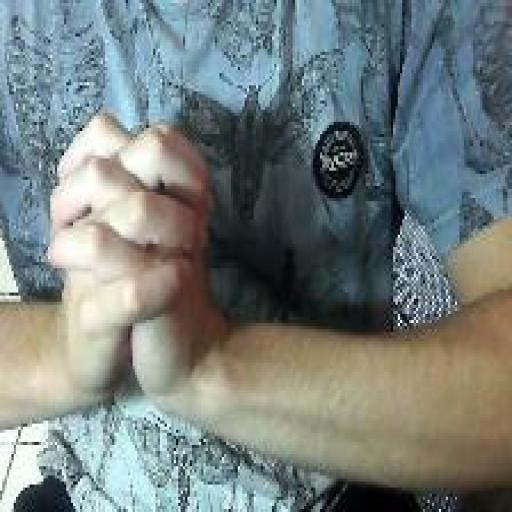Mi -snake-: (42, 105, 218, 428)
